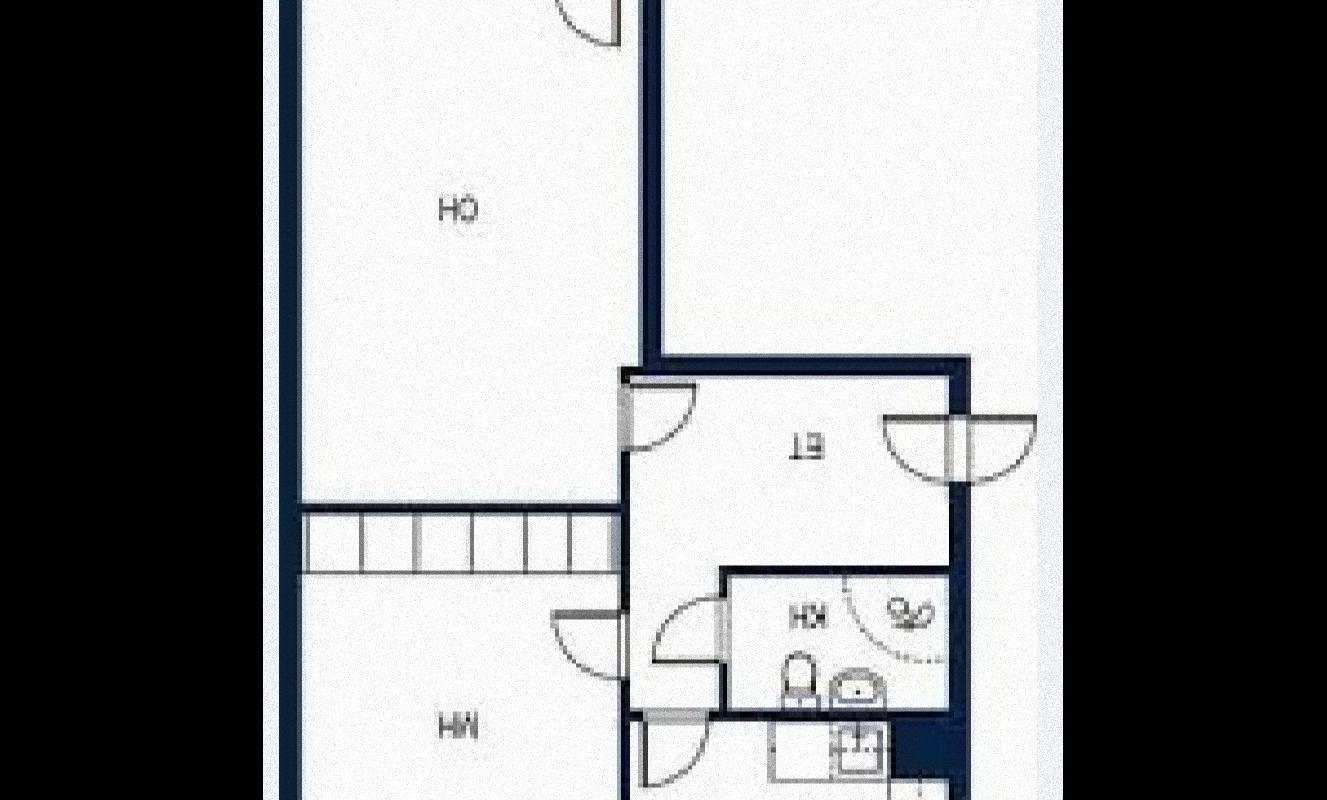door: (872, 409, 1040, 488), (542, 604, 632, 682), (619, 377, 704, 454), (638, 710, 716, 790), (650, 594, 732, 668), (542, 0, 623, 40)
zone: (299, 0, 646, 507), (630, 376, 950, 706), (300, 515, 620, 800), (725, 582, 944, 712), (627, 725, 950, 800)
